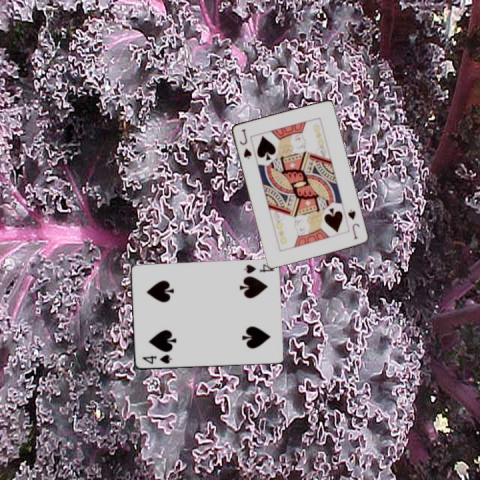4s: (241, 261, 274, 275), (138, 352, 172, 365)
Js: (236, 126, 253, 160), (344, 206, 360, 241)
